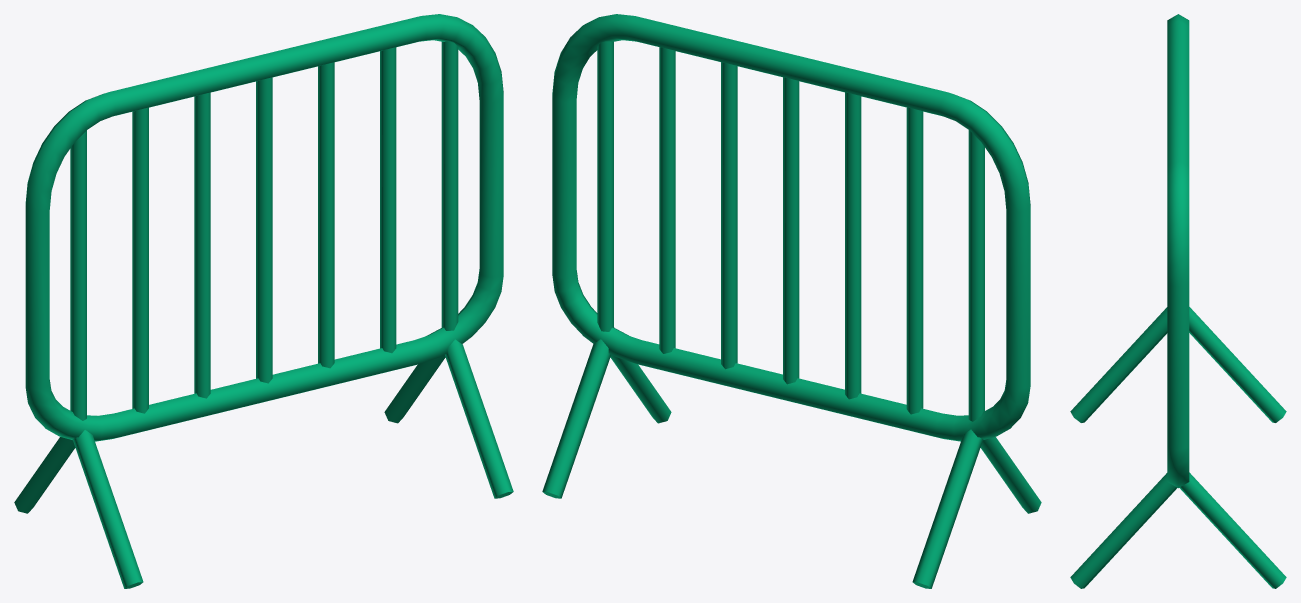
The model's file is Rativalla.fbx.
3 views of the same model, side by side, from view 1: azimuth 30°, elevation 25°; view 2: azimuth 150°, elevation 25°; view 3: azimuth 270°, elevation 25° (orthographic). The views are drawn at different scales.
Visible parts, largest first — view 1: RatiValla; view 2: RatiValla; view 3: RatiValla.
Boxes of the visible parts, x1,y1,x2,y2 form: RatiValla: (14,14,513,588); RatiValla: (542,14,1041,588); RatiValla: (1070,14,1286,588).
Bounding box in the file's own units: 59.01 × 53.3 × 25.2.
